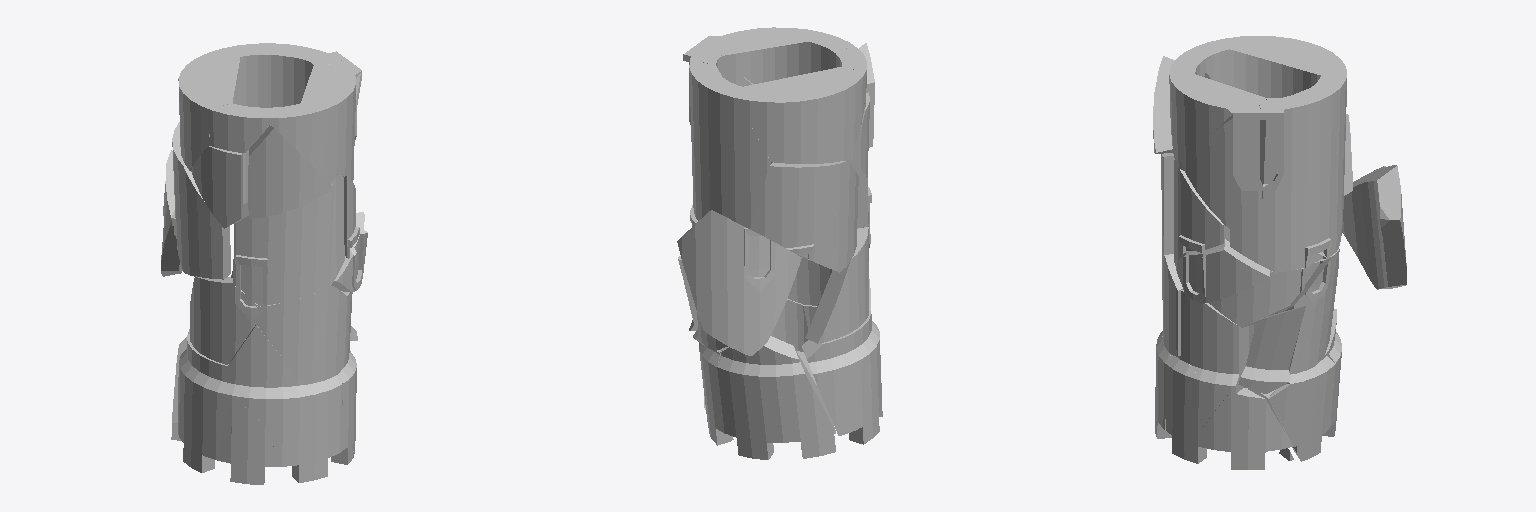
The model's file is destruction_tower_000024.obj.
3 renders of one model, left to right at view 1: azimuth 30°, elevation 25°; view 2: azimuth 150°, elevation 25°; view 3: azimuth 270°, elevation 25°, orthographic.
Parts seen in each view (by area): view 1: tower.001_cell.024_Mesh.024, tower.001_cell.028_Mesh.028, tower.001_cell.021_Mesh.021, tower.001_cell.006_Mesh.006, tower.001_cell.011_Mesh.011, tower.001_cell.002_Mesh.002, tower.001_cell.013_Mesh.013, tower.001_cell.003_Mesh.003, tower.001_cell.009_Mesh.009, tower.001_cell.015_Mesh.015, tower.001_cell.017_Mesh.017, tower.001_cell.014_Mesh.014 (+9 smaller); view 2: tower.001_cell.025_Mesh.025, tower.001_cell.007_Mesh.007, tower.001_cell.015_Mesh.015, tower.001_cell.017_Mesh.017, tower.001_cell.003_Mesh.003, tower.001_cell.028_Mesh.028, tower.001_cell.005_Mesh.005, tower.001_cell.009_Mesh.009, tower.001_cell.029_Mesh.029, tower.001_cell.021_Mesh.021, tower.001_cell.023_Mesh.023, tower.001_cell.006_Mesh.006 (+5 smaller); view 3: tower.001_cell.017_Mesh.017, tower.001_cell.020_Mesh.020, tower.001_cell.025_Mesh.025, tower.001_cell.015_Mesh.015, tower.001_cell.028_Mesh.028, tower.001_cell.030_Mesh.030, tower.001_cell_Mesh, tower.001_cell.029_Mesh.029, tower.001_cell.010_Mesh.010, tower.001_cell.012_Mesh.012, tower.001_cell.016_Mesh.016, tower.001_cell.023_Mesh.023 (+11 smaller).
Boxes of the visible parts, <box> form: tower.001_cell.024_Mesh.024: <box>233,184,333,306</box>; tower.001_cell.028_Mesh.028: <box>263,64,361,182</box>; tower.001_cell.021_Mesh.021: <box>256,285,347,386</box>; tower.001_cell.006_Mesh.006: <box>182,391,273,484</box>; tower.001_cell.011_Mesh.011: <box>273,378,342,482</box>; tower.001_cell.002_Mesh.002: <box>248,125,332,218</box>; tower.001_cell.013_Mesh.013: <box>226,325,306,433</box>; tower.001_cell.003_Mesh.003: <box>171,122,230,279</box>; tower.001_cell.009_Mesh.009: <box>190,276,256,364</box>; tower.001_cell.015_Mesh.015: <box>178,49,239,170</box>; tower.001_cell.017_Mesh.017: <box>221,43,322,204</box>; tower.001_cell.014_Mesh.014: <box>191,146,242,228</box>; tower.001_cell.025_Mesh.025: <box>677,210,801,355</box>; tower.001_cell.007_Mesh.007: <box>717,336,835,459</box>; tower.001_cell.015_Mesh.015: <box>737,67,864,163</box>; tower.001_cell.017_Mesh.017: <box>689,59,772,228</box>; tower.001_cell.003_Mesh.003: <box>750,161,858,272</box>; tower.001_cell.028_Mesh.028: <box>709,27,852,84</box>; tower.001_cell.005_Mesh.005: <box>802,311,879,435</box>; tower.001_cell.009_Mesh.009: <box>805,227,870,343</box>; tower.001_cell.029_Mesh.029: <box>699,343,730,445</box>; tower.001_cell.021_Mesh.021: <box>788,255,831,305</box>; tower.001_cell.023_Mesh.023: <box>771,299,813,377</box>; tower.001_cell.006_Mesh.006: <box>849,331,882,444</box>; tower.001_cell.017_Mesh.017: <box>1291,72,1346,258</box>; tower.001_cell.020_Mesh.020: <box>1182,107,1265,228</box>; tower.001_cell.025_Mesh.025: <box>1342,165,1406,289</box>; tower.001_cell.015_Mesh.015: <box>1230,36,1346,97</box>; tower.001_cell.028_Mesh.028: <box>1169,56,1267,161</box>; tower.001_cell.030_Mesh.030: <box>1182,388,1292,469</box>; tower.001_cell_Mesh: <box>1181,290,1248,394</box>; tower.001_cell.029_Mesh.029: <box>1268,353,1334,461</box>; tower.001_cell.010_Mesh.010: <box>1175,239,1269,303</box>; tower.001_cell.012_Mesh.012: <box>1278,249,1339,383</box>; tower.001_cell.016_Mesh.016: <box>1238,306,1305,393</box>; tower.001_cell.023_Mesh.023: <box>1166,355,1227,457</box>.
Size of the model in its own units: 47.13 by 96.89 by 61.1.